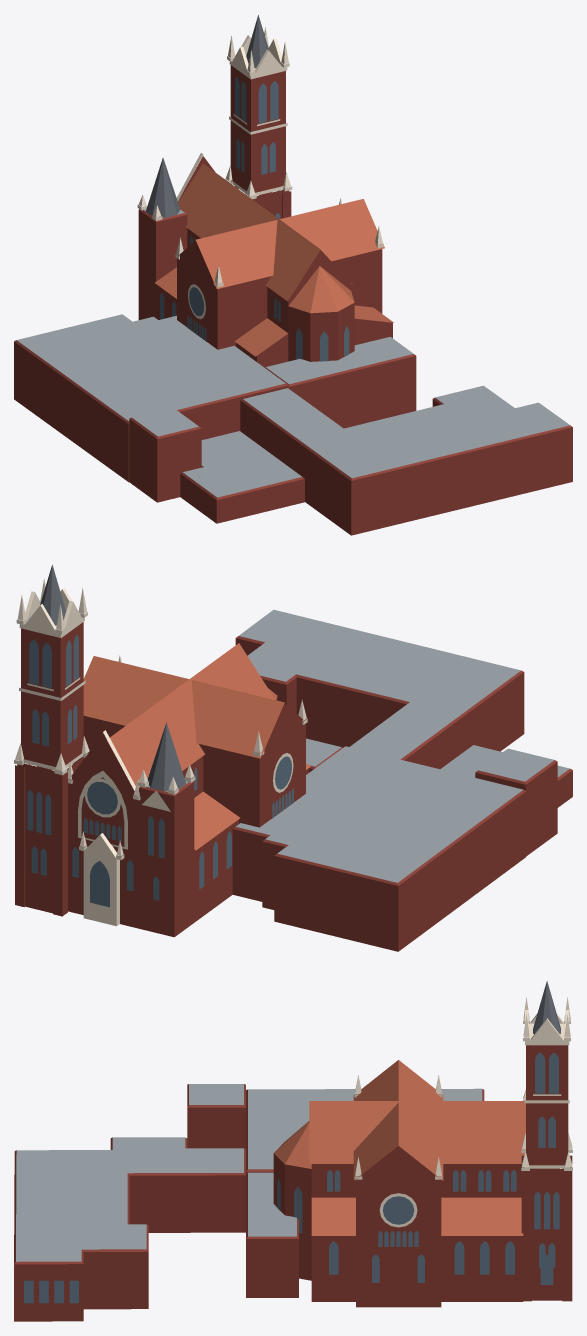
File: dal-cathedral-guadalupe.glb
3 renders of one model, top to bottom at view 1: azimuth 30°, elevation 25°; view 2: azimuth 150°, elevation 25°; view 3: azimuth 270°, elevation 25°, orthographic. The views are drawn at different scales.
Visible parts, largest first — view 1: Cathedral Shrine of the Virgin of Guadalupe; view 2: Cathedral Shrine of the Virgin of Guadalupe; view 3: Cathedral Shrine of the Virgin of Guadalupe.
Part boxes in pixels (x1=…): Cathedral Shrine of the Virgin of Guadalupe: x1=14, y1=15, x2=572, y2=535; Cathedral Shrine of the Virgin of Guadalupe: x1=14, y1=564, x2=572, y2=951; Cathedral Shrine of the Virgin of Guadalupe: x1=14, y1=981, x2=572, y2=1321.
Size of the model in its own units: 64.16 by 54.2 by 88.45.
